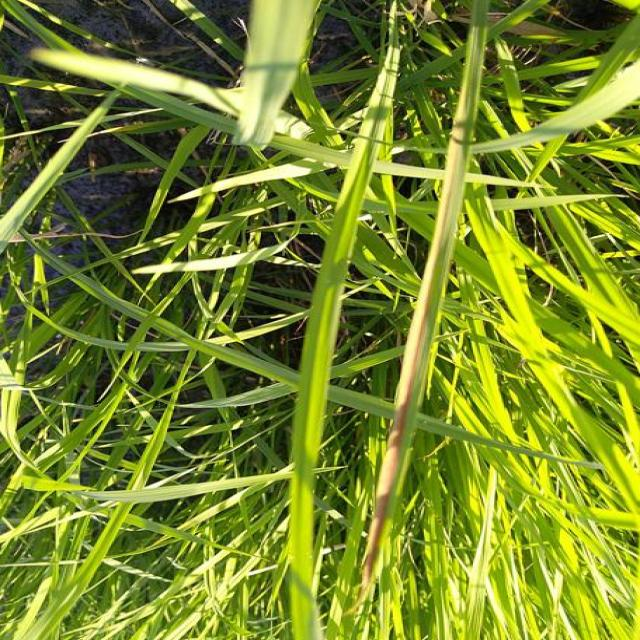Leaf Streak: (365, 34, 486, 585)
